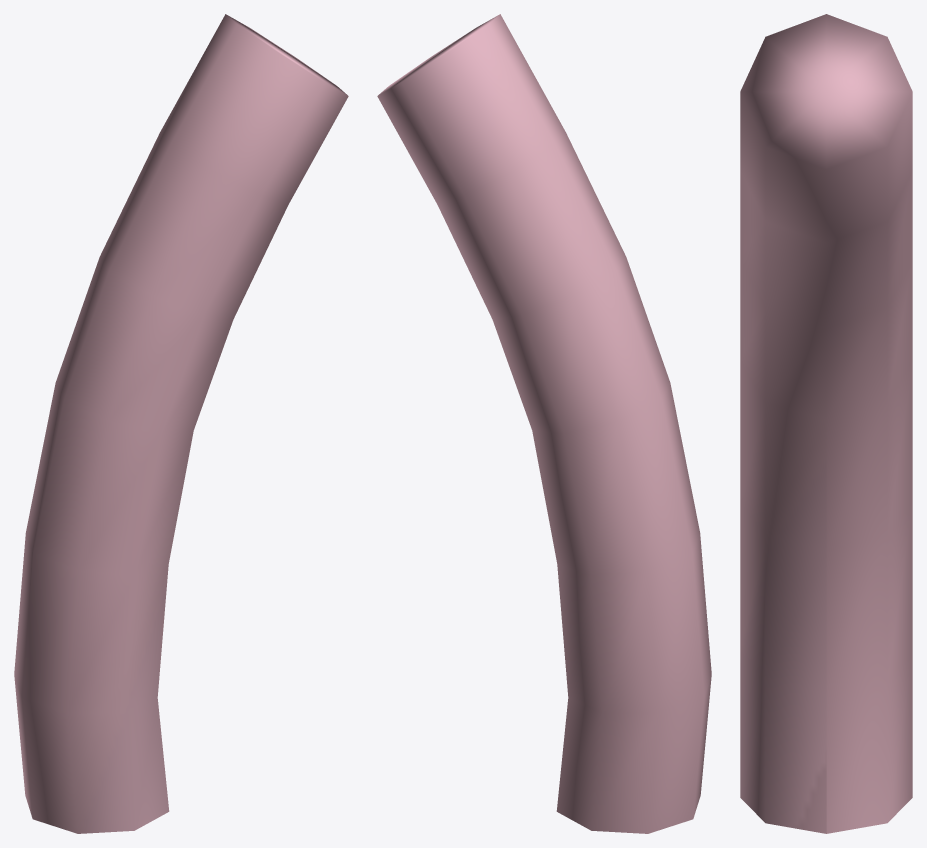
File: ELM_RopeBall.fbx
3 views of the same model, side by side, from view 1: azimuth 30°, elevation 25°; view 2: azimuth 150°, elevation 25°; view 3: azimuth 270°, elevation 25° (orthographic). The views are drawn at different scales.
Parts seen in each view (by area): view 1: Rope_Ball; view 2: Rope_Ball; view 3: Rope_Ball.
Part boxes in pixels (bbox=[...]): Rope_Ball: bbox=[14, 14, 348, 833]; Rope_Ball: bbox=[377, 14, 711, 833]; Rope_Ball: bbox=[740, 14, 912, 833].
Size of the model in its own units: 0.2616 by 0.5907 by 0.1071.
